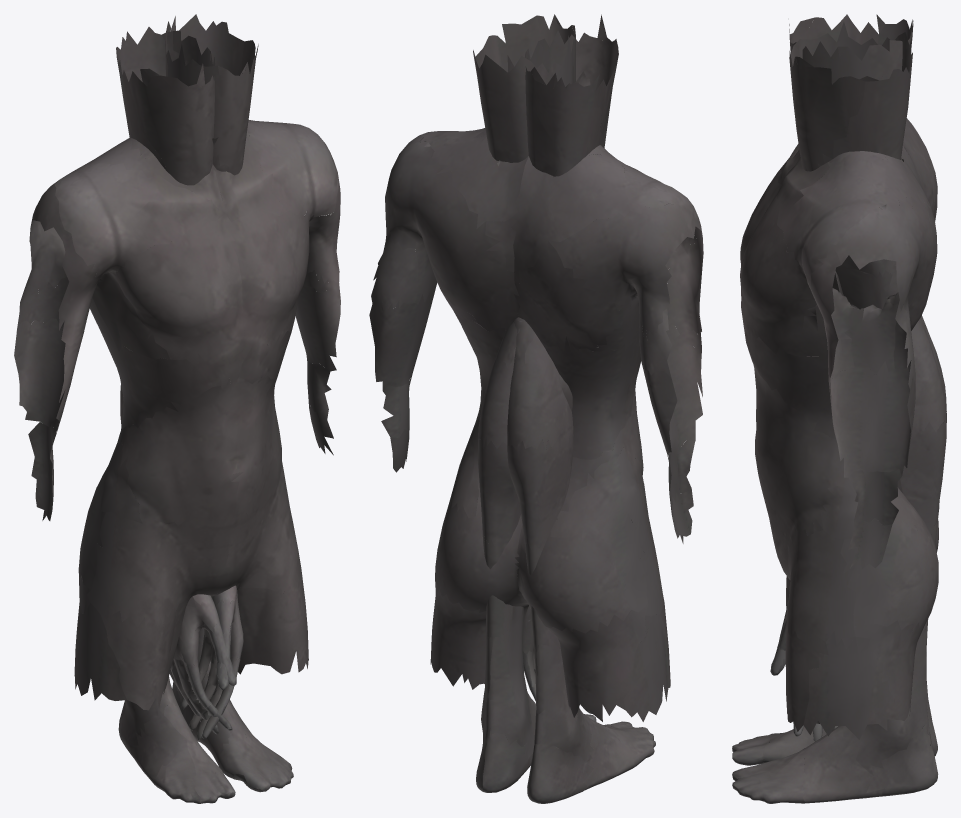
The model's file is ElQuieto_AI.fbx.
The picture shows the model from 3 angles, left to right: view 1: azimuth 30°, elevation 25°; view 2: azimuth 150°, elevation 25°; view 3: azimuth 270°, elevation 25°; orthographic projection. The views are drawn at different scales.
Visible parts, largest first — view 1: Torso1, Leg1, Leg2, Arm2, Arm1; view 2: Torso1, Leg2, Leg1, Arm1; view 3: Torso1, Leg1, Leg2, Arm2.
Boxes of the visible parts, <box> form: Torso1: <box>14,120,340,710</box>; Leg1: <box>116,27,293,792</box>; Leg2: <box>118,14,258,803</box>; Arm2: <box>169,66,236,734</box>; Arm1: <box>140,68,243,740</box>; Torso1: <box>369,128,703,721</box>; Leg2: <box>473,14,655,803</box>; Leg1: <box>476,14,618,792</box>; Arm1: <box>522,71,592,713</box>; Torso1: <box>740,118,938,739</box>; Leg1: <box>732,14,946,803</box>; Leg2: <box>732,21,946,765</box>; Arm2: <box>770,75,903,741</box>.
Size of the model in its own units: 161 by 370 by 96.02.
Materials: 1 (1 with a texture image).
